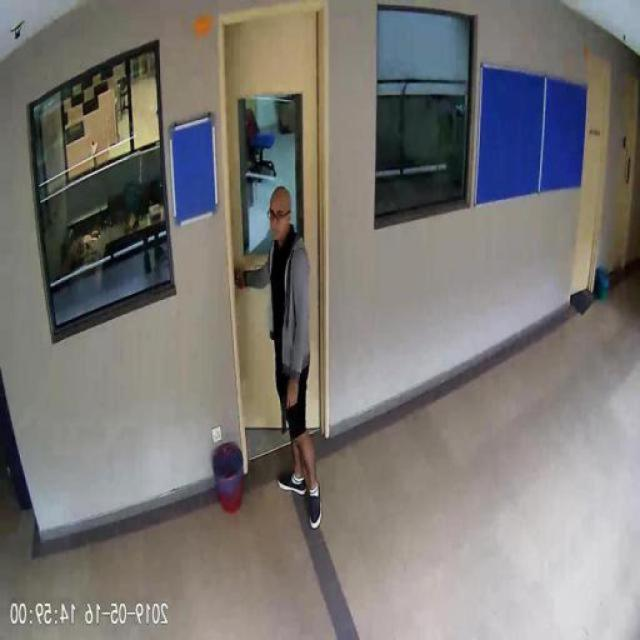pistol: (282, 388, 300, 432)
